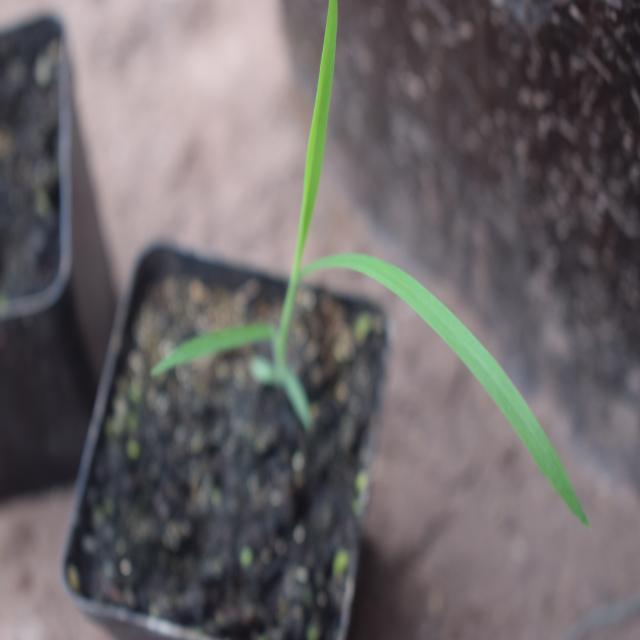crabgrass: (260, 14, 572, 506)
